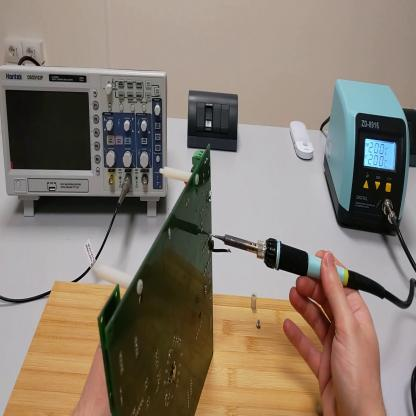hand: (286, 249, 385, 415), (73, 340, 113, 416)
low voltage board: (94, 145, 216, 416)
oscilloscope: (1, 67, 169, 219)
socket: (404, 109, 416, 167)
welder probe tip: (211, 235, 387, 300)
welder station: (324, 82, 413, 235)
working area: (4, 284, 346, 415)
